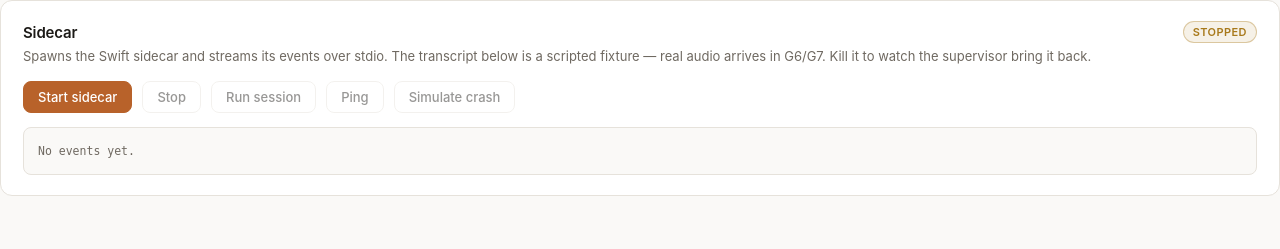
SidecarCard › goes red and stays red when the supervisor gives up
The image size is (1280, 249).
Click the button "Start sidecar" at (78, 96), box [23,80,132,112]
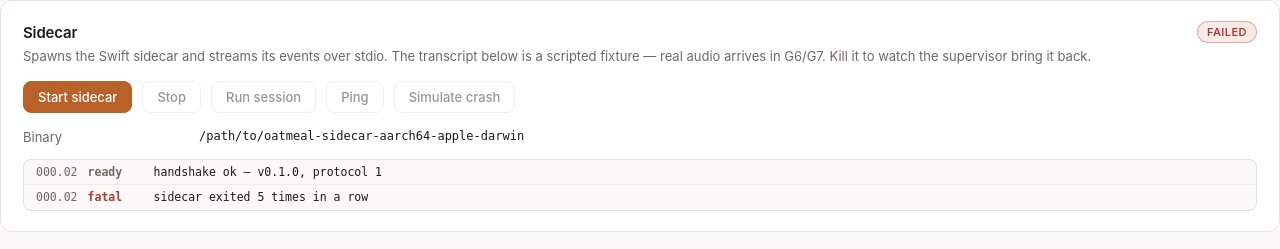
Now the text "failed" is shown, box [1197,21,1257,43]
Now the text "sidecar exited 5 times in a row" is shown, box [154,190,368,204]
